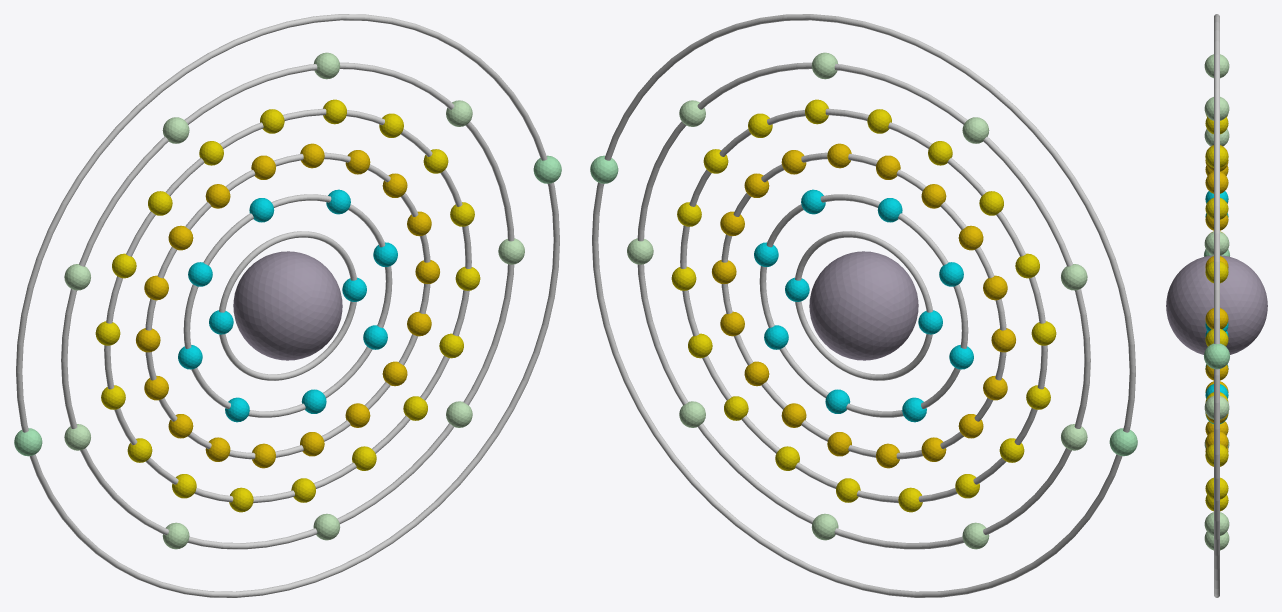
3 renders of one model, left to right at view 1: azimuth 30°, elevation 25°; view 2: azimuth 150°, elevation 25°; view 3: azimuth 270°, elevation 25°, orthographic. The views are drawn at different scales.
Visible parts, largest first — view 1: world; view 2: world; view 3: world.
Part boxes in pixels (left/top/right/bottom): world: left=14, top=14, right=561, bottom=597; world: left=590, top=14, right=1137, bottom=597; world: left=1166, top=14, right=1267, bottom=597.
Size of the model in its own units: 2.53 by 2.53 by 0.44.
